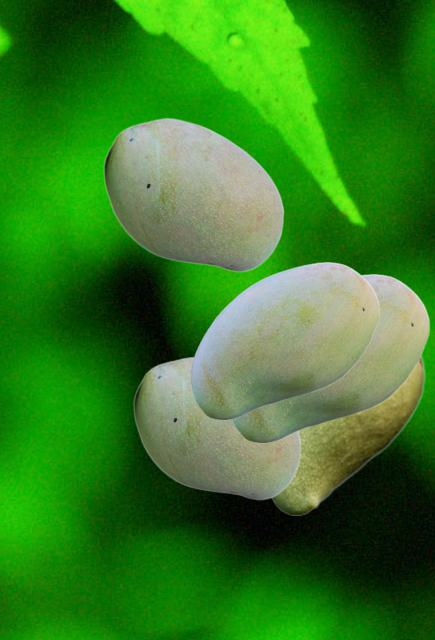green_mango: (229, 274, 429, 441), (190, 262, 379, 418), (103, 117, 283, 271), (270, 355, 424, 514), (133, 356, 300, 499)
